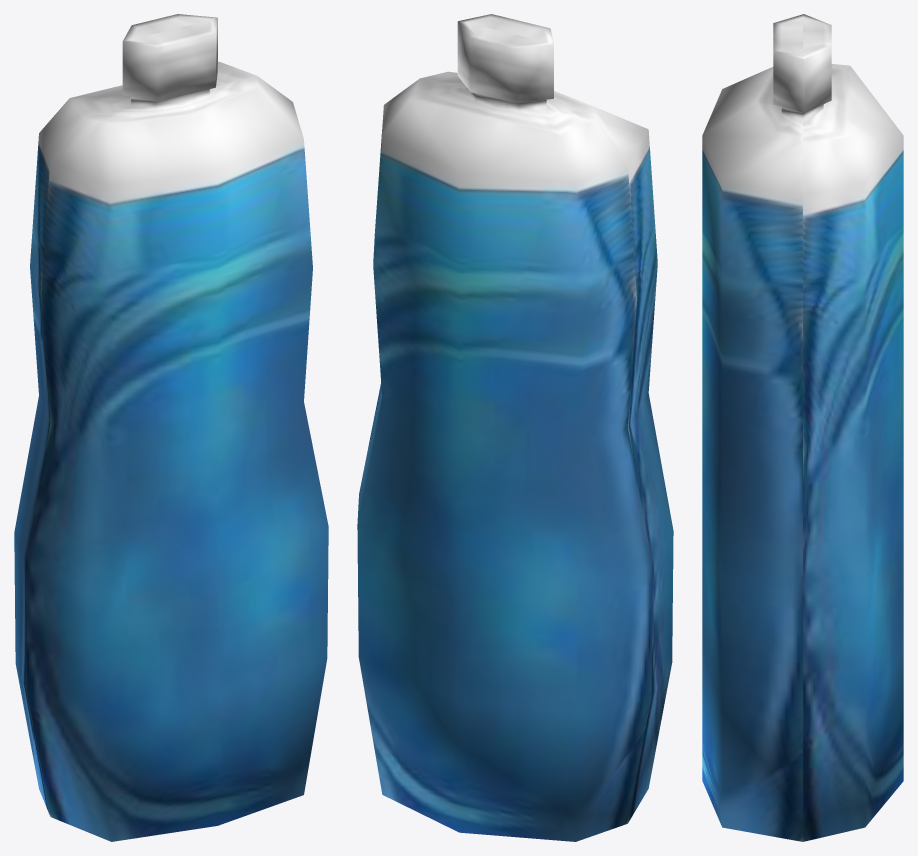
The model's file is dish_soap.FBX.
The picture shows the model from 3 angles, left to right: view 1: azimuth 30°, elevation 25°; view 2: azimuth 150°, elevation 25°; view 3: azimuth 270°, elevation 25°; orthographic projection. The views are drawn at different scales.
Visible parts, largest first — view 1: dish_soap; view 2: dish_soap; view 3: dish_soap.
Part boxes in pixels (left/top/right/bottom): dish_soap: left=14, top=14, right=328, bottom=841; dish_soap: left=357, top=14, right=673, bottom=841; dish_soap: left=702, top=14, right=903, bottom=841.
Size of the model in its own units: 8.09 by 20.05 by 4.89.
